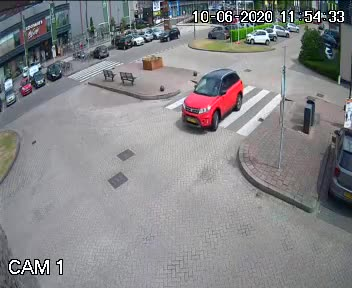car: (174, 68, 250, 133), (156, 23, 177, 44)
